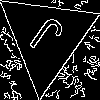J: (21, 12, 66, 65)
